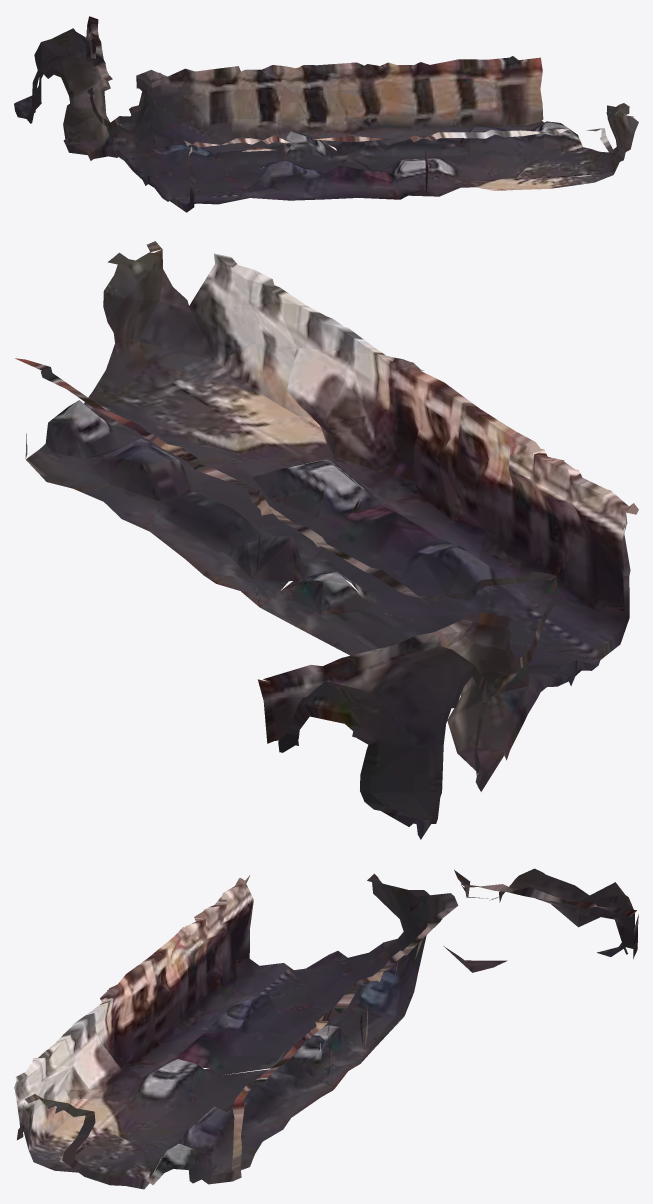
3 renders of one model, top to bottom at view 1: azimuth 30°, elevation 25°; view 2: azimuth 150°, elevation 25°; view 3: azimuth 270°, elevation 25°, orthographic. The views are drawn at different scales.
Parts seen in each view (by area): view 1: Mesh_0; view 2: Mesh_0; view 3: Mesh_0.
Boxes of the visible parts, bbox=[...] form: Mesh_0: bbox=[14, 16, 638, 212]; Mesh_0: bbox=[15, 241, 638, 839]; Mesh_0: bbox=[14, 868, 638, 1189].
Bounding box in the file's own units: 33.51 × 6.78 × 36.03.
1 material, 1 textured.
